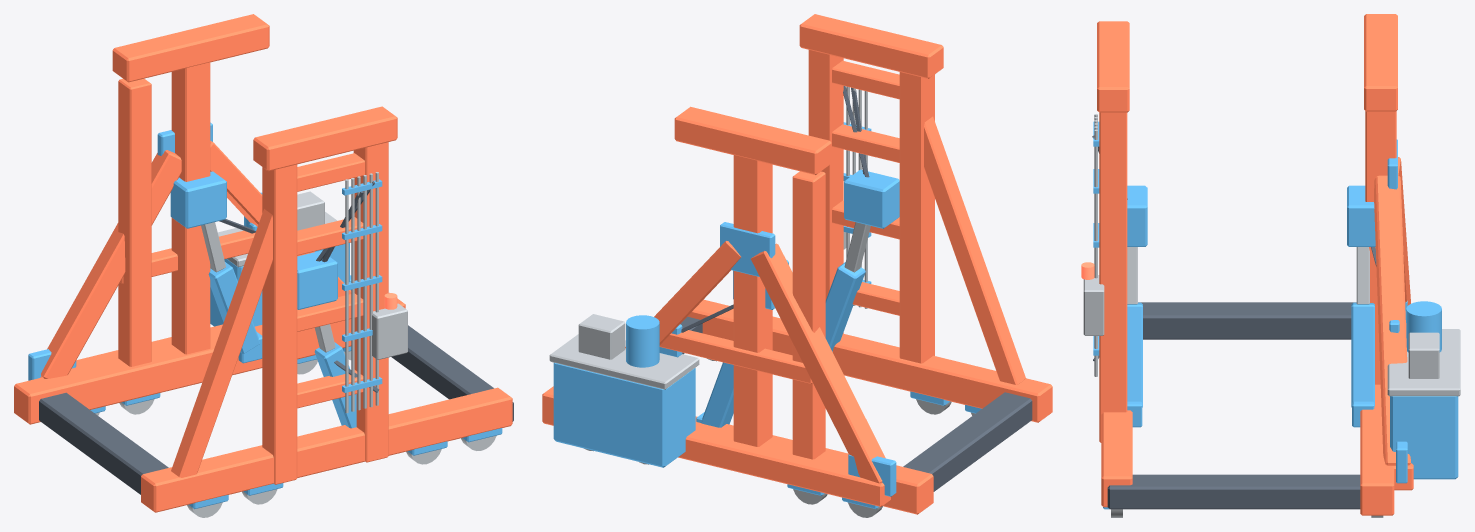
Rendered from mobile-tipper-frame-v4-medium.glb.
3 views of the same model, side by side, from view 1: azimuth 30°, elevation 25°; view 2: azimuth 150°, elevation 25°; view 3: azimuth 270°, elevation 25° (orthographic). The views are drawn at different scales.
Visible parts, largest first — view 1: mobile-tipper-frame-v4-high.glb-v5_tilter_red, mobile-tipper-frame-v4-high.glb-v5_tilter_blue, mobile-tipper-frame-v4-high.glb-v5_bulk_silver, mobile-tipper-frame-v4-high.glb-v5_bulk_gunmetal; view 2: mobile-tipper-frame-v4-high.glb-v5_tilter_red, mobile-tipper-frame-v4-high.glb-v5_tilter_blue, mobile-tipper-frame-v4-high.glb-v5_bulk_silver, mobile-tipper-frame-v4-high.glb-v5_bulk_gunmetal; view 3: mobile-tipper-frame-v4-high.glb-v5_tilter_red, mobile-tipper-frame-v4-high.glb-v5_bulk_gunmetal, mobile-tipper-frame-v4-high.glb-v5_tilter_blue, mobile-tipper-frame-v4-high.glb-v5_bulk_silver.
Part boxes in pixels (x1,y1,x2,y2): mobile-tipper-frame-v4-high.glb-v5_tilter_red: (14,14,512,512); mobile-tipper-frame-v4-high.glb-v5_tilter_blue: (28,122,502,509); mobile-tipper-frame-v4-high.glb-v5_bulk_silver: (95,172,496,517); mobile-tipper-frame-v4-high.glb-v5_bulk_gunmetal: (39,181,513,494); mobile-tipper-frame-v4-high.glb-v5_tilter_red: (542,14,1052,514); mobile-tipper-frame-v4-high.glb-v5_tilter_blue: (553,122,981,508); mobile-tipper-frame-v4-high.glb-v5_bulk_silver: (549,86,975,517); mobile-tipper-frame-v4-high.glb-v5_bulk_gunmetal: (680,86,1032,491); mobile-tipper-frame-v4-high.glb-v5_tilter_red: (1097,14,1413,515); mobile-tipper-frame-v4-high.glb-v5_bulk_gunmetal: (1092,135,1376,509); mobile-tipper-frame-v4-high.glb-v5_tilter_blue: (1093,121,1458,509); mobile-tipper-frame-v4-high.glb-v5_bulk_silver: (1083,114,1460,517).
Size of the model in its own units: 6.2 by 5.67 by 5.1.
